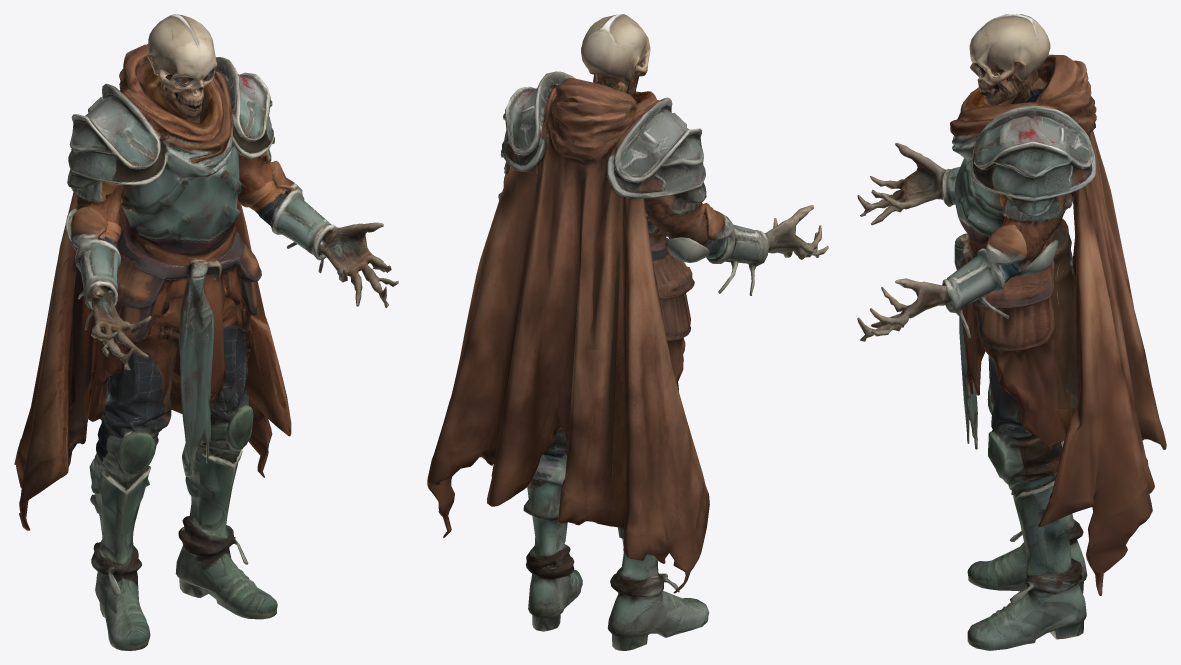
File: Meshy_AI_lost_damagedhurt_and__0504063245_texture.fbx
3 views of the same model, side by side, from view 1: azimuth 30°, elevation 25°; view 2: azimuth 150°, elevation 25°; view 3: azimuth 270°, elevation 25° (orthographic).
Parts seen in each view (by area): view 1: Mesh_0; view 2: Mesh_0; view 3: Mesh_0.
Part boxes in pixels (bbox=[...]): Mesh_0: bbox=[14, 14, 398, 650]; Mesh_0: bbox=[427, 14, 828, 650]; Mesh_0: bbox=[857, 14, 1166, 650].
Size of the model in its own units: 97 by 191 by 89.54.
1 material, 1 textured.
